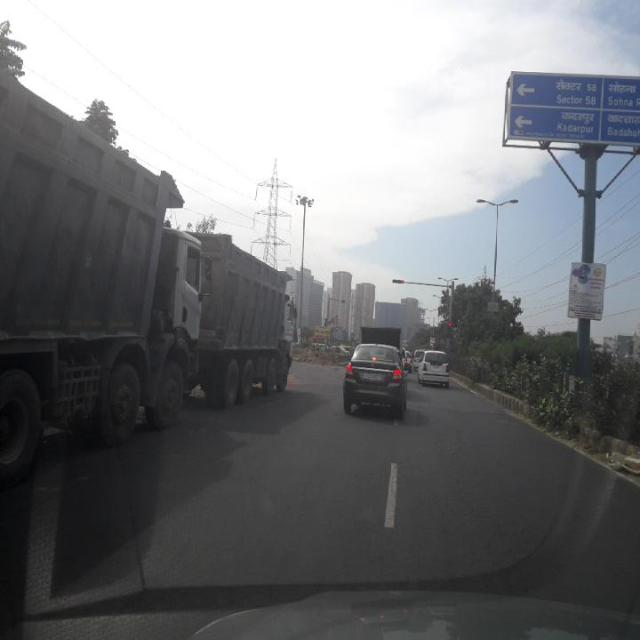D20: (418, 398, 588, 599)
